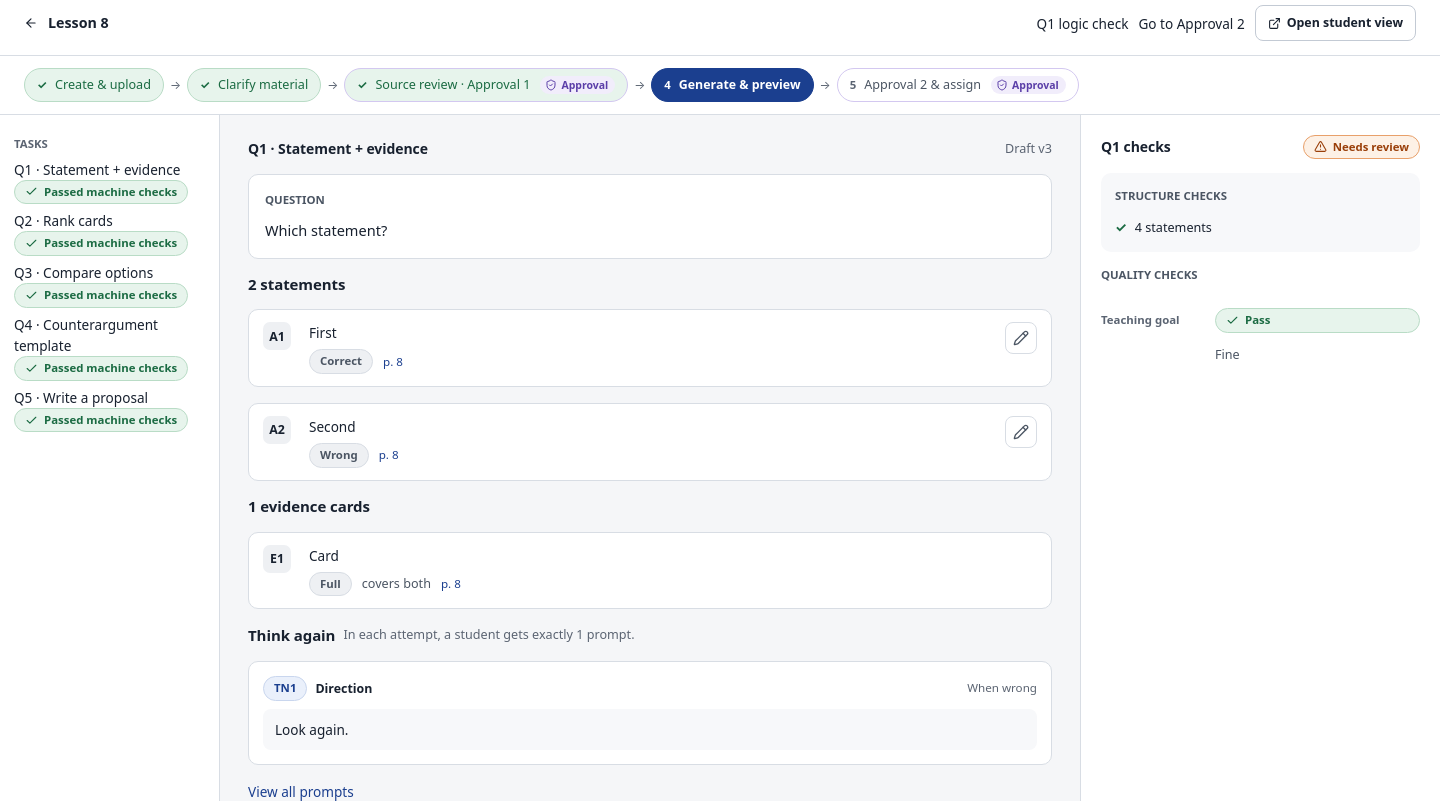
Test: T7, T9 and T11 › View all prompts opens the full list
Step 1. Click the button "View all prompts" → (301, 791), box [248,781,354,800]
(page scrolled)
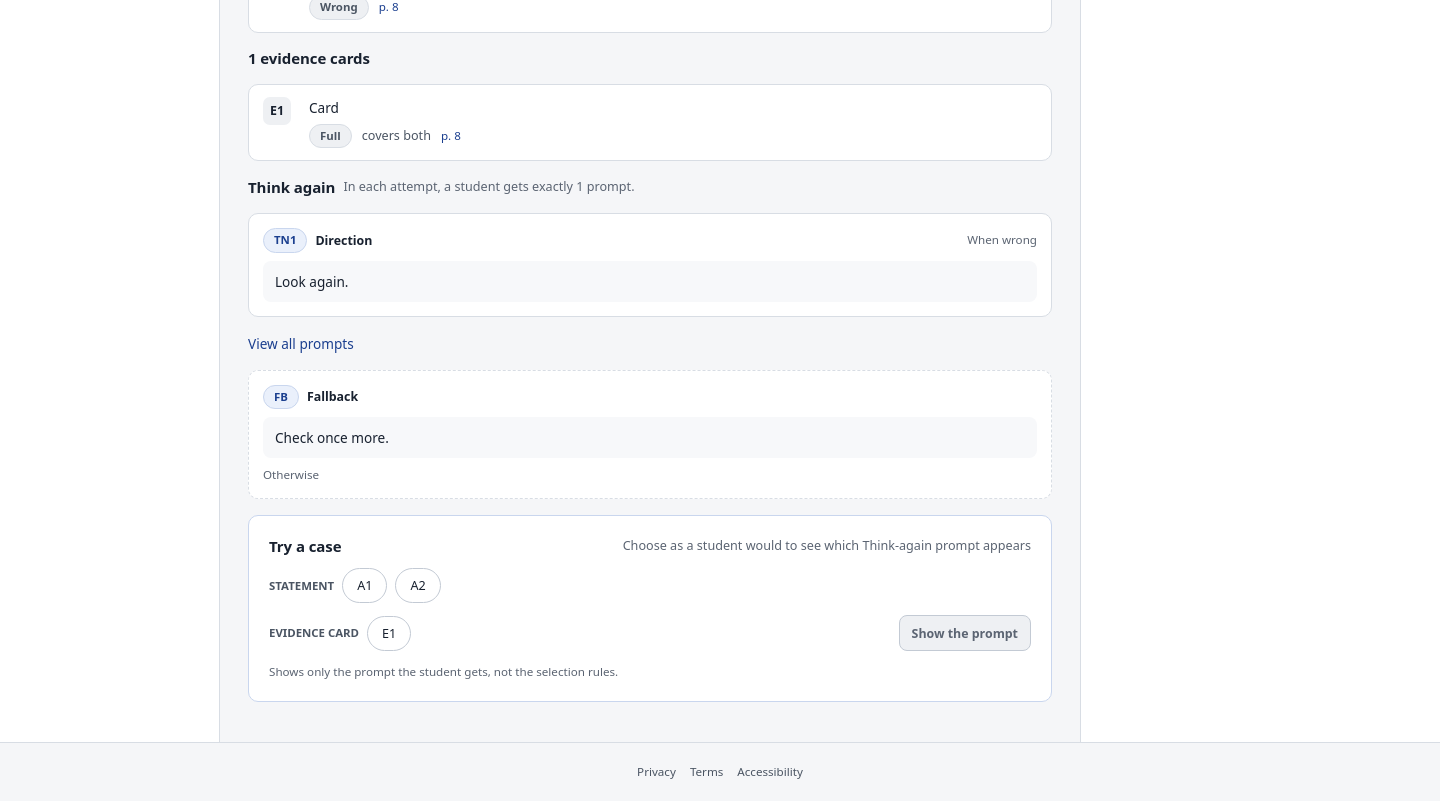
Result: the text "Check once more." is shown at [263,418,1037,458]
